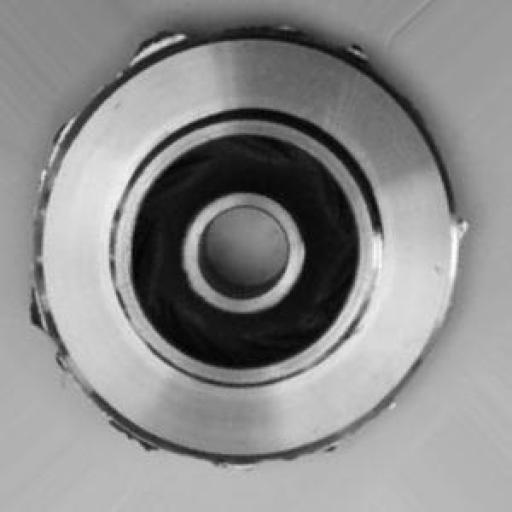defect: (25, 22, 478, 480)
